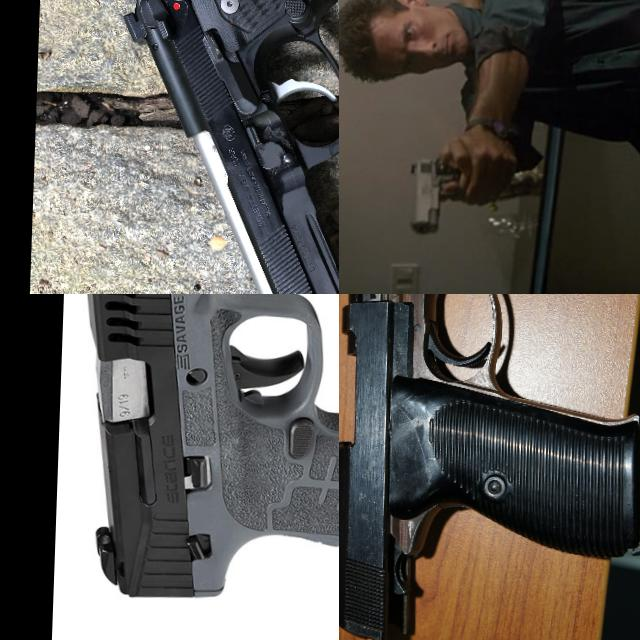handgun: (339, 294, 640, 640), (53, 294, 339, 612), (106, 0, 339, 294), (404, 150, 482, 238)
